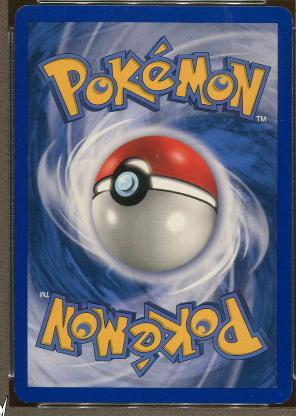Card: (8, 0, 293, 409)
Corner Wear: (12, 386, 29, 405), (270, 392, 290, 406)
